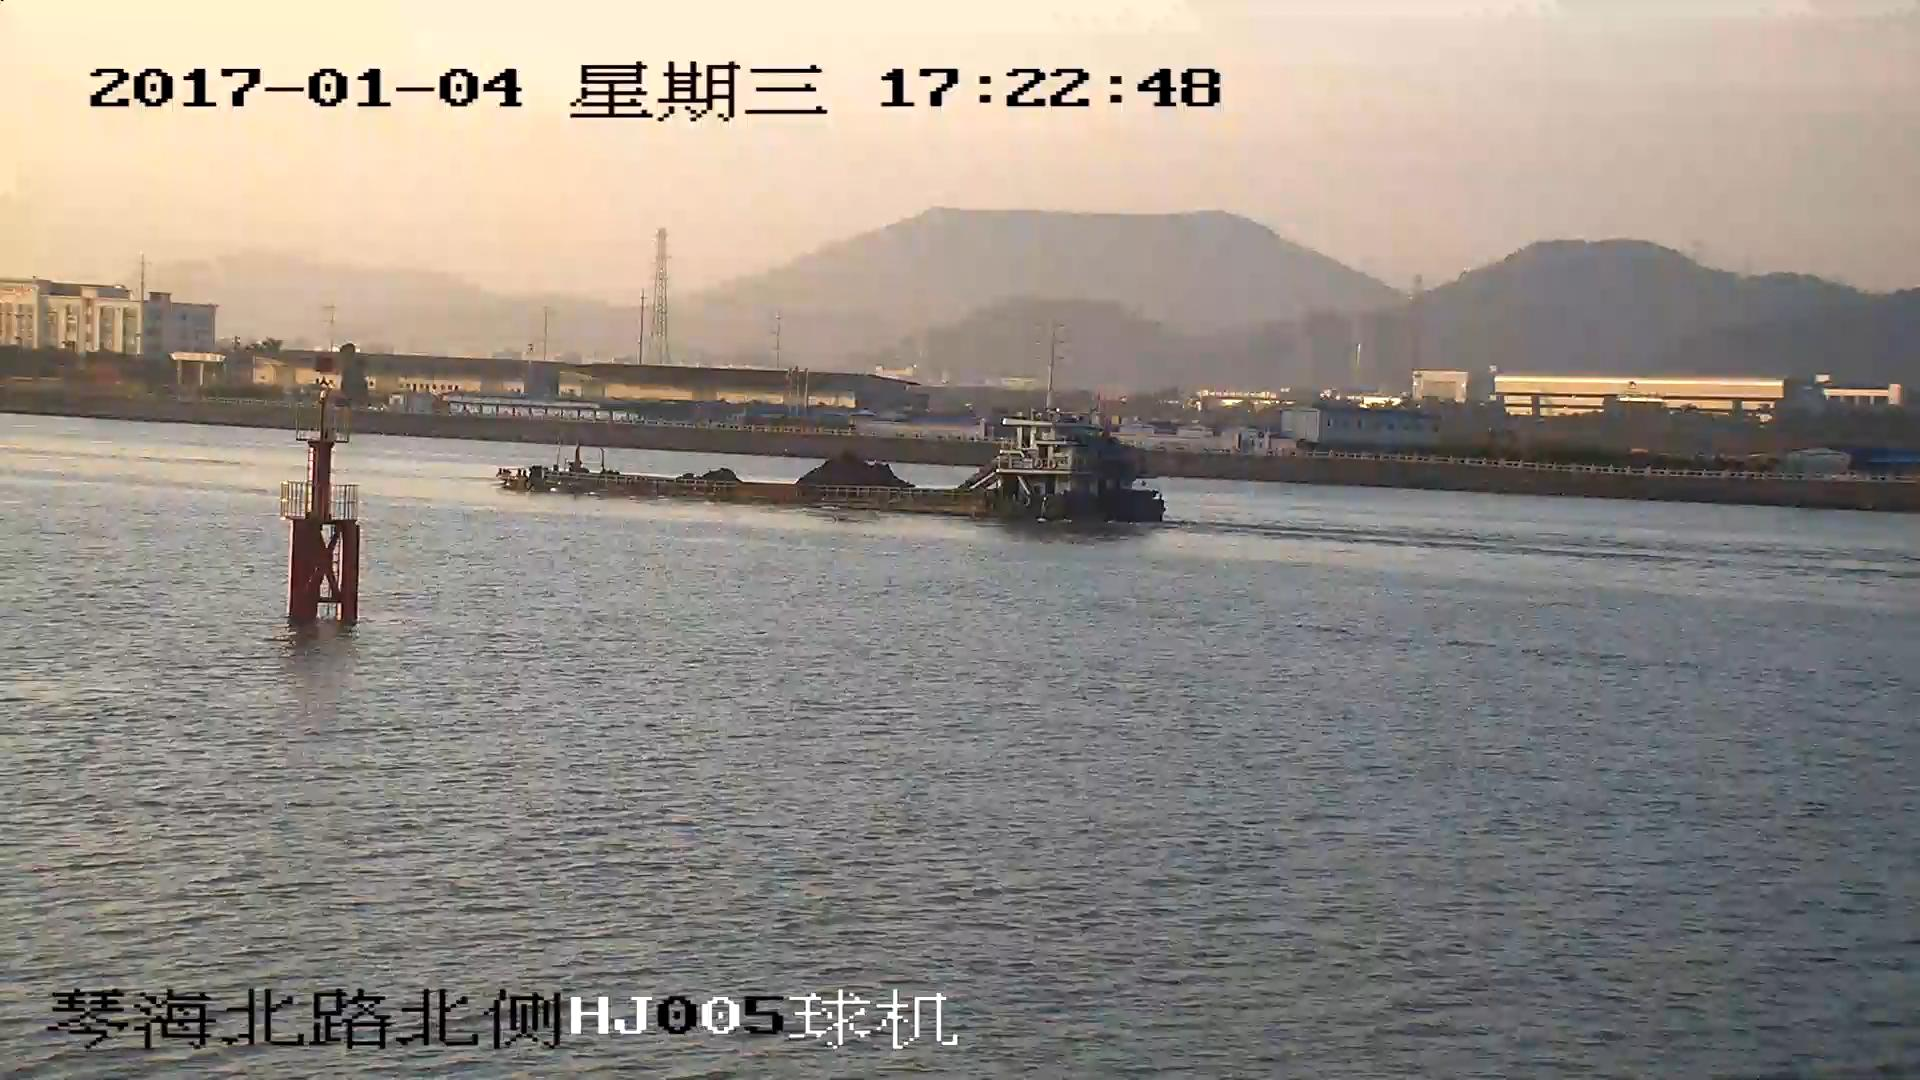ore carrier: (497, 417, 1166, 523)
